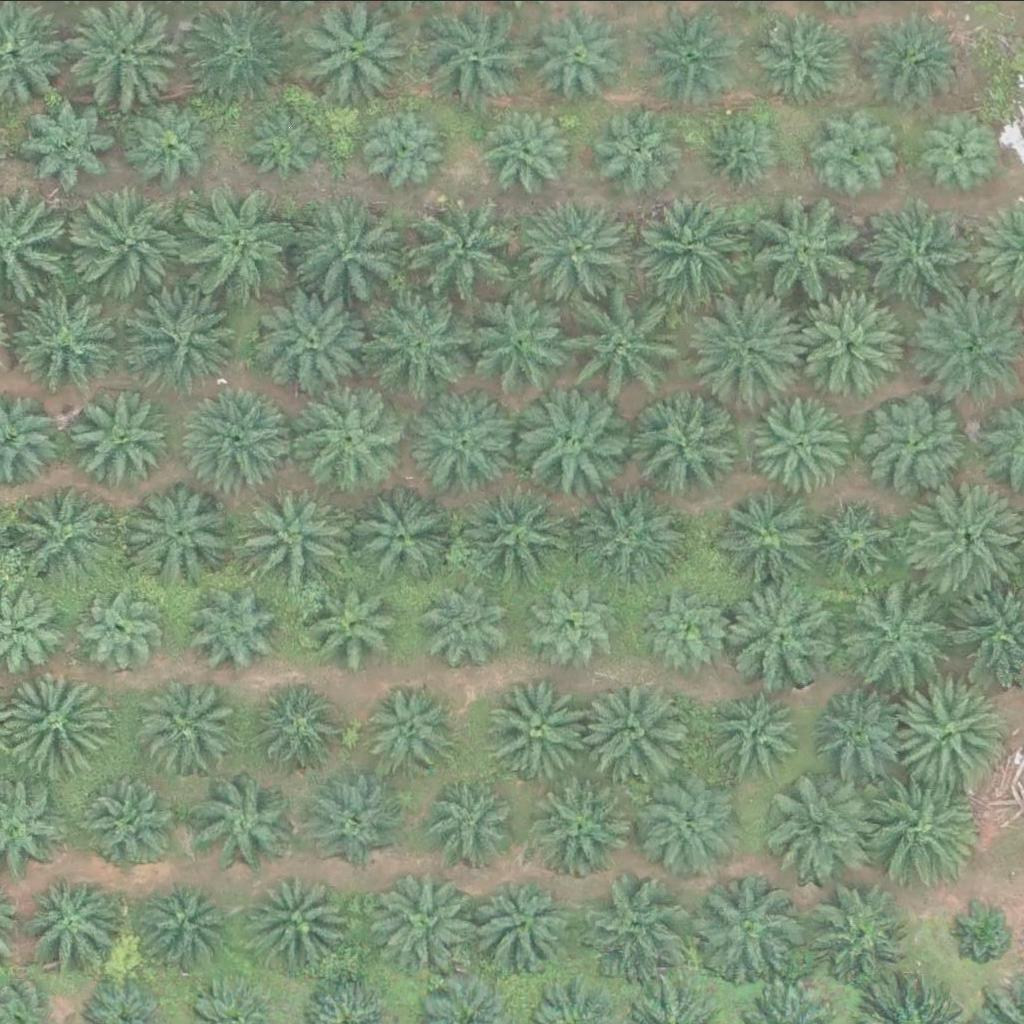Kelapa_Sawit: (698, 286, 812, 399), (121, 280, 235, 393), (520, 188, 633, 301), (639, 192, 752, 305), (755, 199, 868, 312), (524, 392, 637, 505), (829, 584, 942, 697), (893, 677, 1006, 790), (634, 772, 747, 885), (753, 772, 866, 885), (867, 780, 980, 893), (694, 875, 807, 988), (76, 181, 189, 294), (257, 287, 370, 400), (11, 280, 124, 393), (183, 381, 296, 494), (245, 475, 358, 588), (3, 477, 116, 590), (870, 201, 984, 313), (727, 582, 841, 694), (527, 772, 641, 884), (181, 187, 295, 299), (459, 478, 573, 590), (2, 667, 116, 779), (368, 863, 482, 975), (793, 287, 906, 399), (568, 280, 681, 392), (629, 395, 742, 507), (577, 477, 690, 589), (717, 480, 830, 592), (905, 480, 1018, 592), (580, 669, 693, 781), (577, 869, 690, 981), (420, 2, 533, 114), (291, 196, 404, 308), (401, 191, 514, 303), (456, 289, 569, 401), (365, 290, 478, 402), (412, 383, 525, 495), (481, 674, 594, 786), (749, 8, 850, 108), (858, 7, 959, 107), (755, 393, 856, 493), (867, 393, 968, 493), (812, 683, 913, 783), (699, 679, 800, 779), (813, 879, 914, 979), (21, 91, 122, 191), (70, 383, 171, 483), (307, 387, 408, 487), (351, 491, 452, 591), (134, 480, 235, 580), (359, 681, 460, 781), (84, 774, 185, 874), (428, 769, 529, 869), (20, 869, 121, 969), (523, 1, 623, 101), (652, 6, 752, 106), (137, 680, 237, 780), (194, 771, 294, 871), (318, 771, 418, 871), (254, 866, 354, 966), (475, 873, 575, 973), (915, 107, 1003, 195), (807, 103, 895, 191), (813, 500, 901, 588), (643, 583, 731, 671), (308, 580, 396, 668), (428, 575, 516, 663), (253, 687, 341, 775), (137, 879, 225, 967), (699, 106, 787, 193), (594, 106, 682, 193), (482, 103, 570, 190), (358, 103, 446, 190), (125, 92, 213, 179), (79, 584, 167, 671), (198, 583, 286, 670), (533, 581, 621, 668), (248, 106, 324, 181), (942, 894, 1017, 969)
